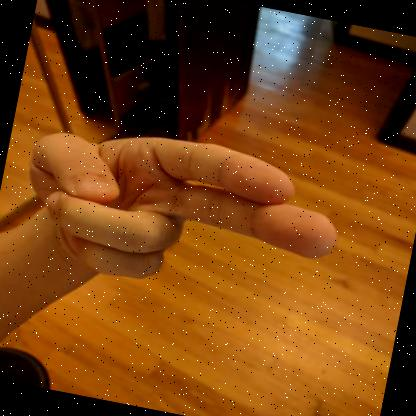H: (14, 132, 337, 286)
